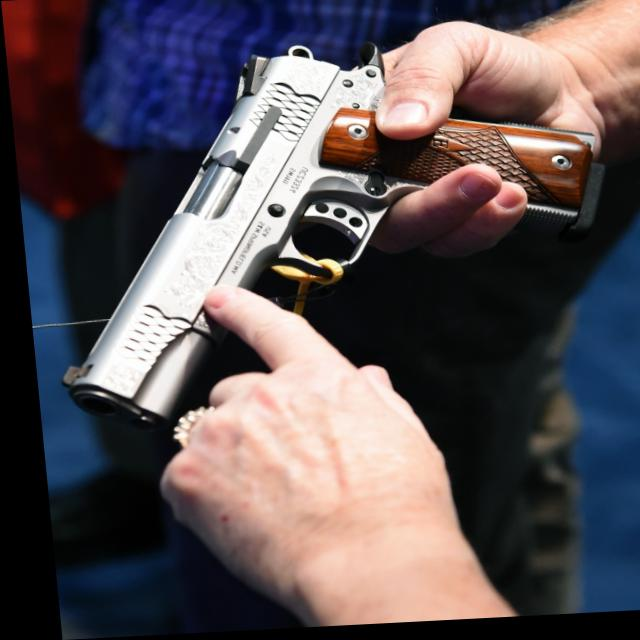handgun: (30, 33, 624, 437)
